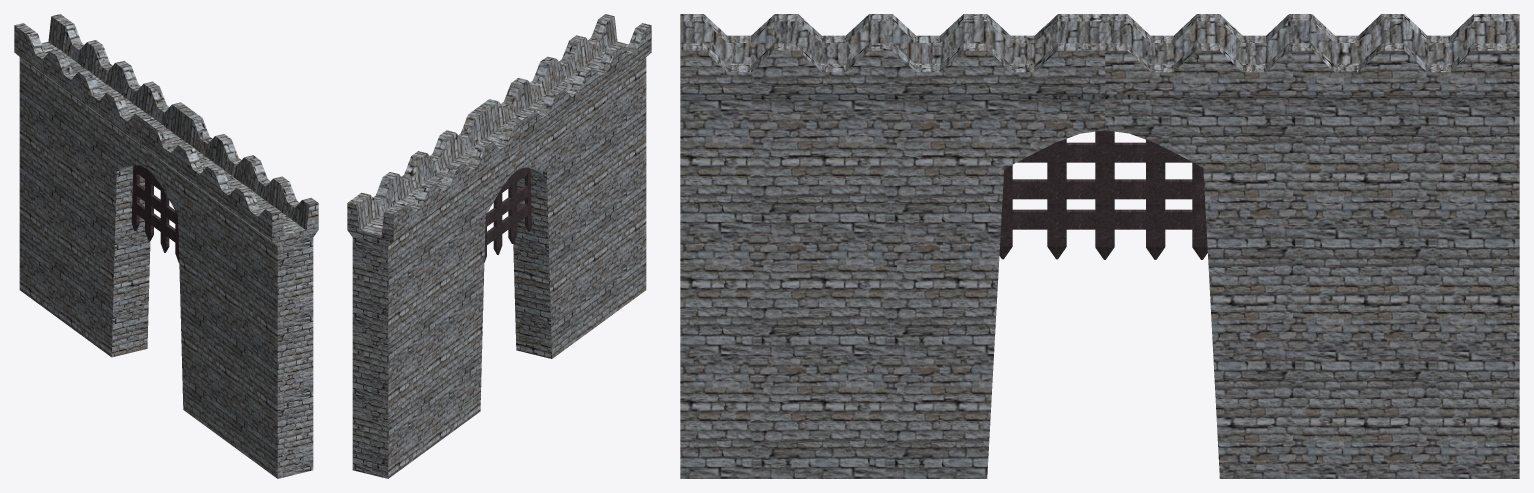
File: gates.obj
3 views of the same model, side by side, from view 1: azimuth 30°, elevation 25°; view 2: azimuth 150°, elevation 25°; view 3: azimuth 270°, elevation 25° (orthographic). The views are drawn at different scales.
Visible parts, largest first — view 1: Cube, Cube.001; view 2: Cube, Cube.001; view 3: Cube, Cube.001.
Part boxes in pixels (left/top/right/bottom): Cube: left=14, top=14, right=318, bottom=478; Cube.001: left=131, top=165, right=179, bottom=262; Cube: left=347, top=14, right=651, bottom=478; Cube.001: left=484, top=167, right=531, bottom=262; Cube: left=680, top=14, right=1519, bottom=478; Cube.001: left=999, top=130, right=1207, bottom=259.
Size of the model in its own units: 0.106 by 0.5826 by 1.02.
2 materials, 2 textured.
